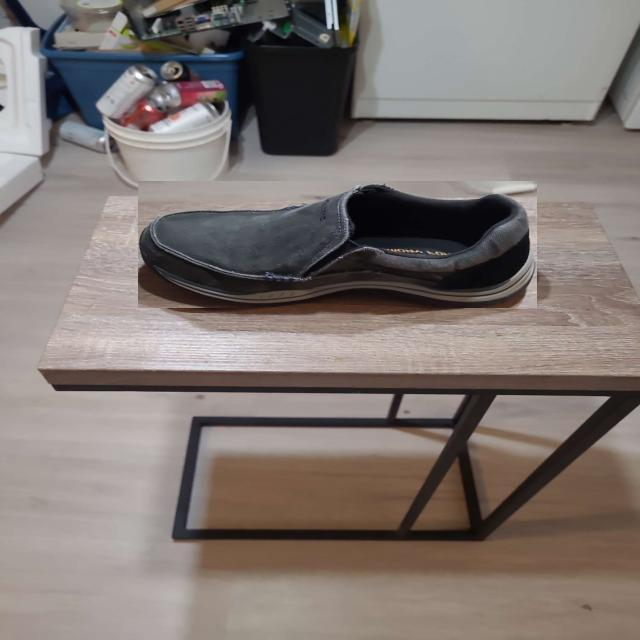shoe: (138, 181, 537, 308)
